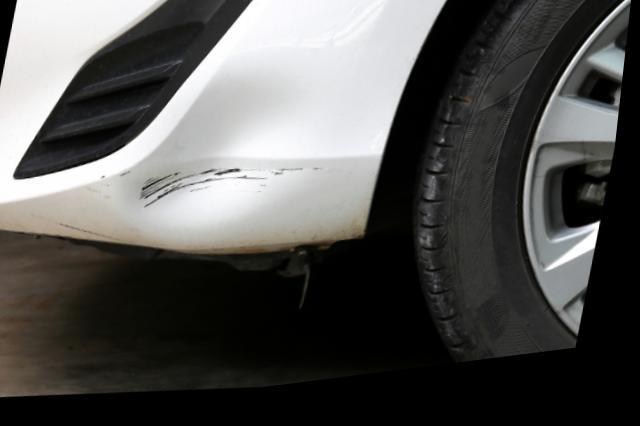dent: (121, 79, 330, 237)
